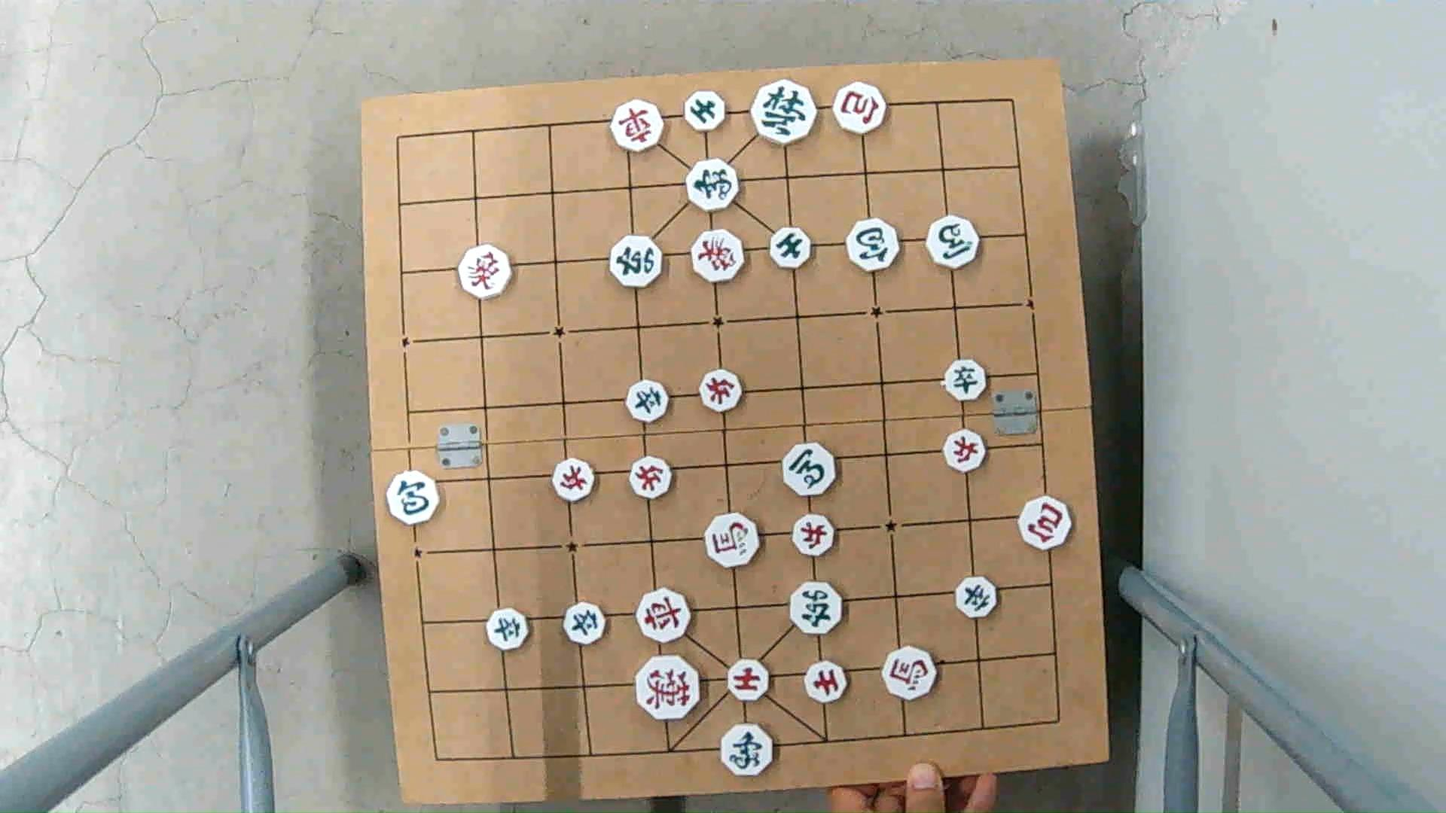cha_green: (787, 585, 845, 635), (609, 239, 666, 286)
cha_red: (635, 589, 692, 641), (609, 101, 667, 150)
jol_green: (941, 358, 991, 399), (626, 379, 671, 424), (563, 606, 610, 644), (484, 611, 532, 648), (954, 577, 999, 616)
jol_red: (628, 460, 676, 499), (697, 373, 744, 412), (551, 462, 597, 501), (792, 516, 836, 556), (943, 434, 990, 470)
ma_green: (779, 443, 839, 495), (928, 218, 983, 266)
ma_red: (703, 514, 760, 569), (882, 650, 939, 698)
po_green: (385, 473, 444, 522), (846, 221, 901, 268)
po_red: (1017, 501, 1075, 550), (829, 83, 888, 131)
sa_green: (682, 92, 730, 132), (767, 227, 813, 266)
sa_red: (724, 662, 773, 699), (803, 662, 848, 702)
sang_green: (686, 159, 739, 210), (721, 726, 778, 773)
sang_red: (688, 229, 749, 282), (459, 245, 514, 302)
wang_green: (749, 84, 819, 142)
wang_red: (632, 659, 701, 716)
